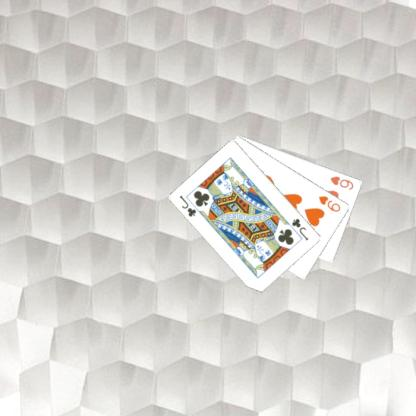6H: (327, 173, 355, 191)
9H: (316, 193, 342, 213)
JC: (176, 193, 198, 218), (289, 216, 310, 242)
